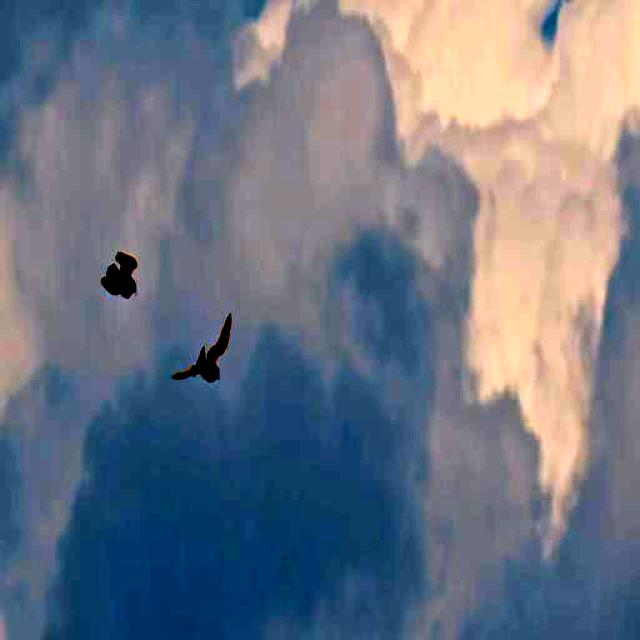airplane: (170, 308, 239, 406), (91, 226, 140, 314)
